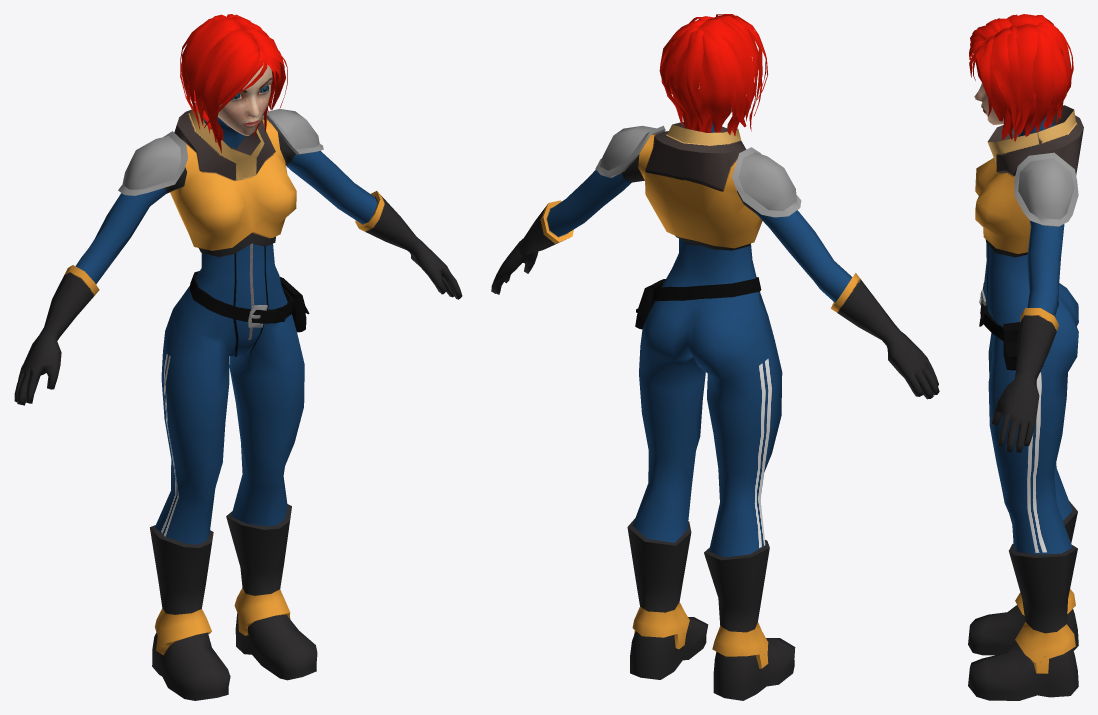
The model's file is Jenny.FBX.
3 renders of one model, left to right at view 1: azimuth 30°, elevation 25°; view 2: azimuth 150°, elevation 25°; view 3: azimuth 270°, elevation 25°, orthographic.
Visible parts, largest first — view 1: Jenny001, Hair002, Shoulder Pads001, Belt001; view 2: Jenny001, Hair002, Shoulder Pads001, Belt001; view 3: Jenny001, Hair002, Shoulder Pads001, Belt001.
Boxes of the visible parts, x1,y1,x2,y2 form: Jenny001: (14, 63, 462, 700); Hair002: (180, 14, 287, 153); Shoulder Pads001: (118, 109, 323, 195); Belt001: (190, 271, 309, 332); Jenny001: (491, 83, 939, 700); Hair002: (659, 14, 768, 135); Shoulder Pads001: (595, 125, 801, 217); Belt001: (635, 277, 761, 329); Jenny001: (968, 83, 1083, 700); Hair002: (969, 14, 1073, 141); Shoulder Pads001: (1014, 152, 1078, 226); Belt001: (979, 282, 1058, 370).
Size of the model in its own units: 1.2 by 1.69 by 0.2729.
4 materials, 1 textured.
